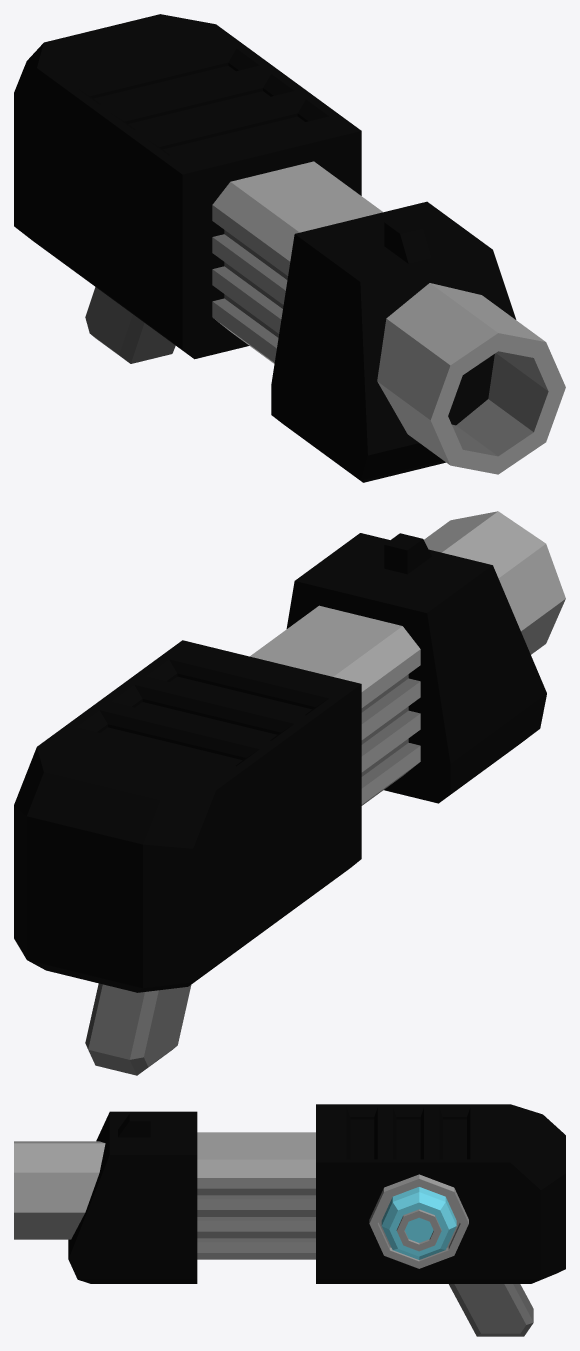
Rendered from WP_Blaster.fbx.
The picture shows the model from 3 angles, top to bottom: view 1: azimuth 30°, elevation 25°; view 2: azimuth 150°, elevation 25°; view 3: azimuth 270°, elevation 25°; orthographic projection. The views are drawn at different scales.
Parts seen in each view (by area): view 1: Blaster_Receiver, Blaster_Barrel, Blaster_Muzzle, Blaster_Heatsink, Blaster_Grip; view 2: Blaster_Receiver, Blaster_Barrel, Blaster_Heatsink, Blaster_Muzzle, Blaster_Grip; view 3: Blaster_Receiver, Blaster_Barrel, Blaster_Heatsink, Blaster_Muzzle, Blaster_Magazine, Blaster_Grip, Blaster_MagazineHolder.
Boxes of the visible parts, <box> form: Blaster_Receiver: <box>14,14,361,359</box>; Blaster_Barrel: <box>271,201,516,482</box>; Blaster_Muzzle: <box>377,283,565,474</box>; Blaster_Heatsink: <box>212,161,382,363</box>; Blaster_Grip: <box>85,287,175,363</box>; Blaster_Receiver: <box>14,640,361,992</box>; Blaster_Barrel: <box>286,533,546,803</box>; Blaster_Heatsink: <box>250,605,420,805</box>; Blaster_Muzzle: <box>424,511,565,654</box>; Blaster_Grip: <box>85,983,191,1075</box>; Blaster_Receiver: <box>316,1104,565,1283</box>; Blaster_Barrel: <box>68,1111,197,1283</box>; Blaster_Heatsink: <box>197,1132,315,1259</box>; Blaster_Muzzle: <box>14,1141,105,1239</box>; Blaster_Magazine: <box>381,1187,456,1259</box>; Blaster_Grip: <box>449,1284,533,1336</box>; Blaster_MagazineHolder: <box>369,1174,468,1268</box>.
Bounding box in the file's own units: 360 × 509 × 1199.
